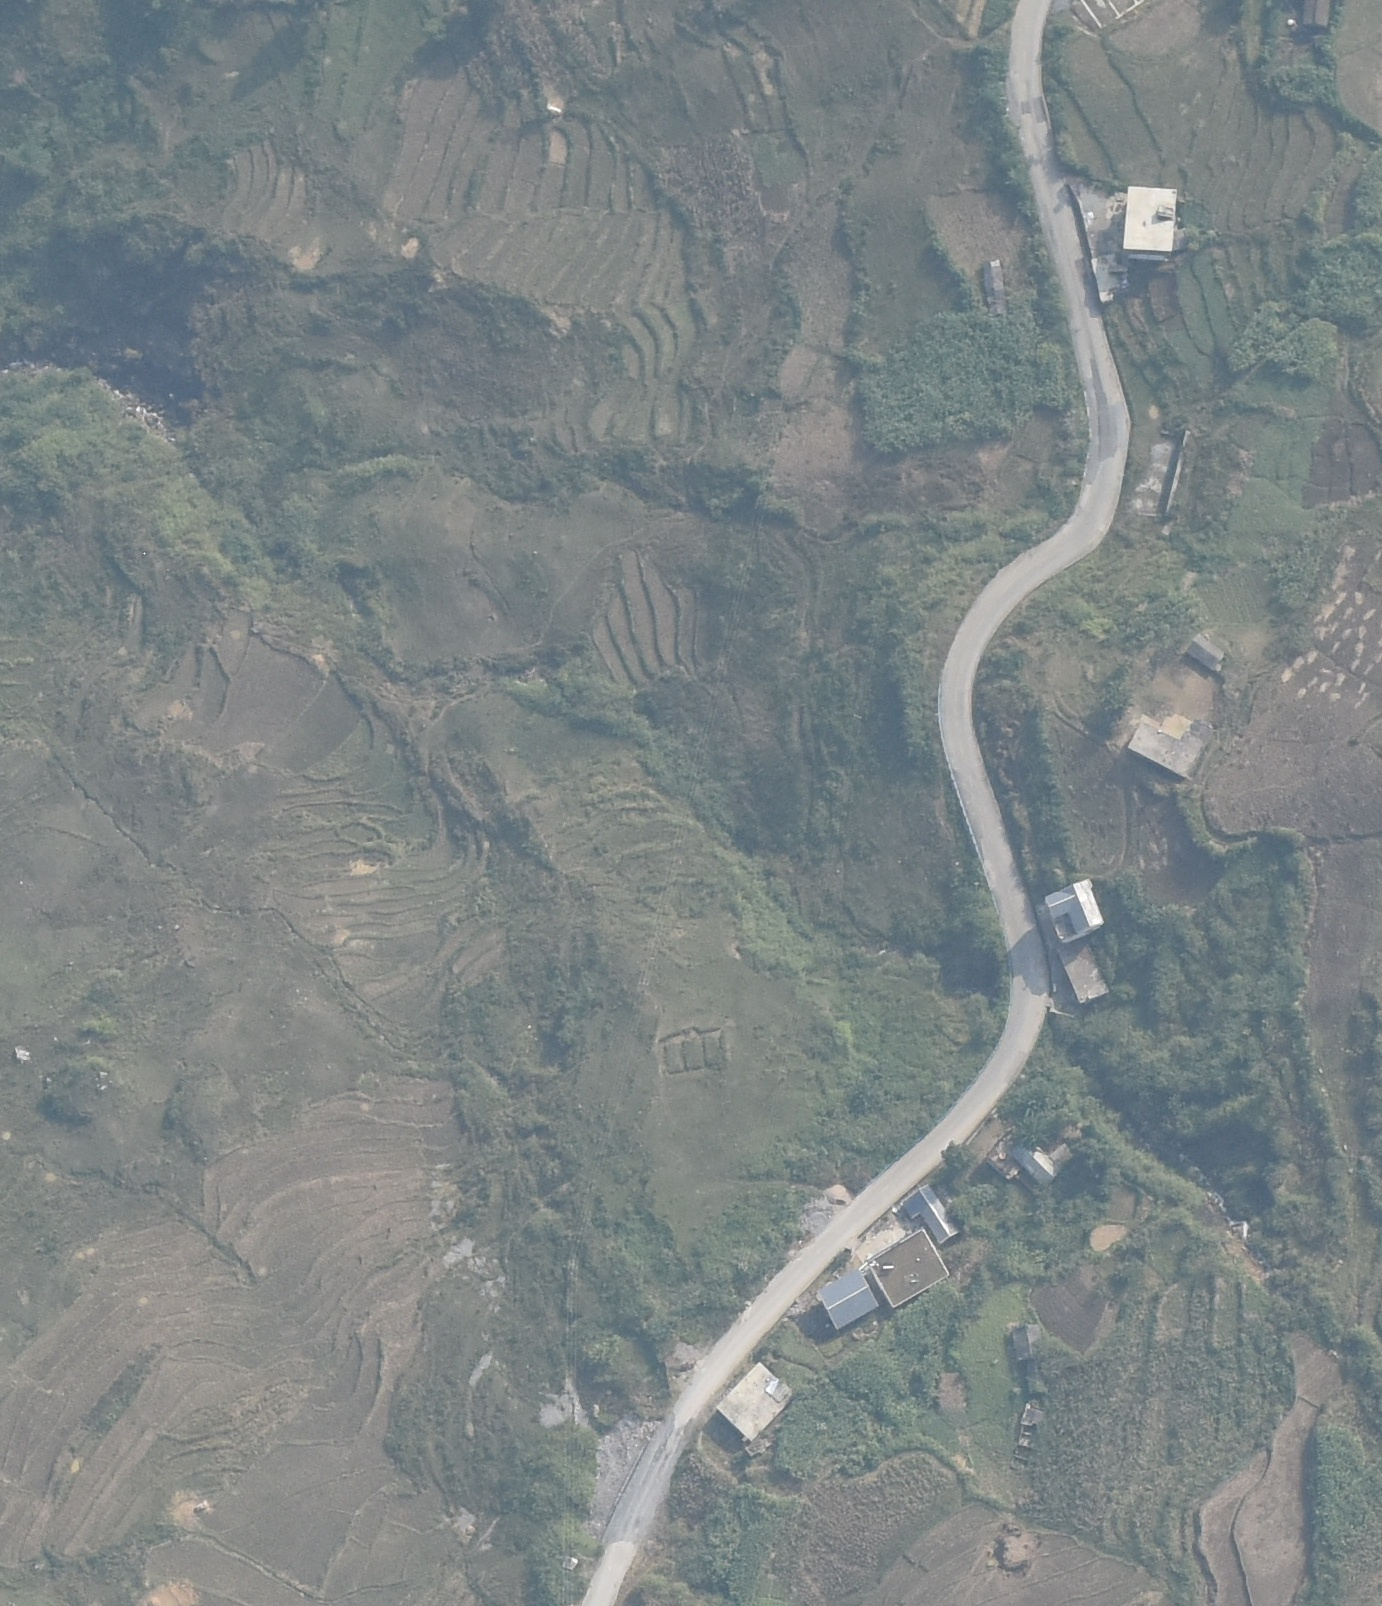building: (986, 1109, 1088, 1183), (1127, 712, 1224, 780), (714, 1368, 795, 1448), (867, 1244, 965, 1307), (1121, 182, 1183, 264), (904, 1181, 976, 1245), (1050, 940, 1114, 1011), (1042, 881, 1112, 940), (811, 1280, 878, 1336), (1196, 615, 1239, 681), (974, 254, 1011, 317), (1006, 1319, 1058, 1362), (1088, 254, 1129, 305)
pool: (1084, 1215, 1143, 1256)
